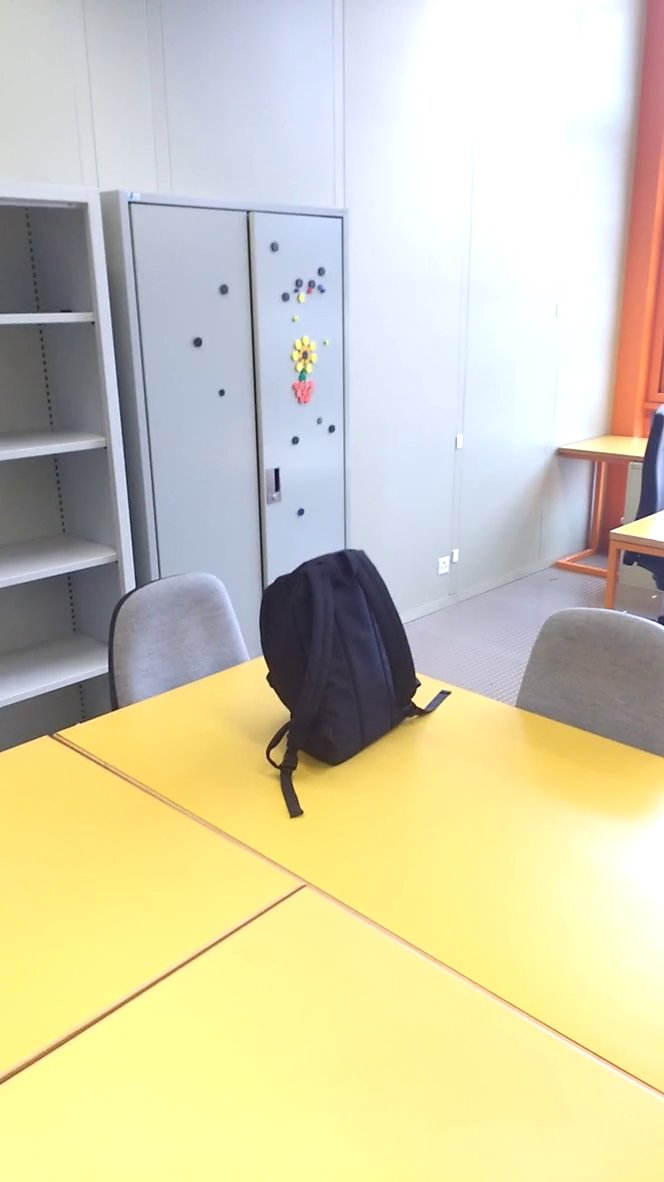bag: (257, 541, 455, 820)
chair: (503, 585, 664, 789), (98, 559, 252, 720)
